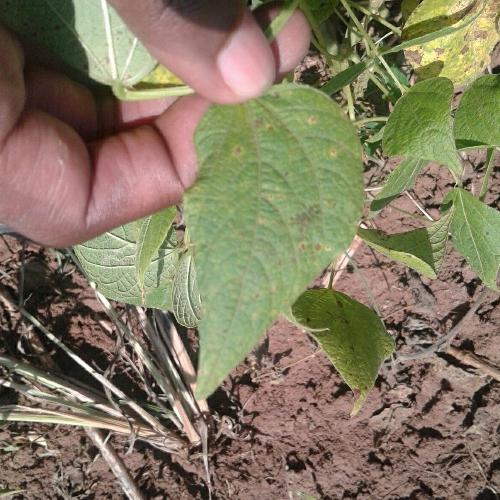mozaik: (291, 200, 330, 262)
